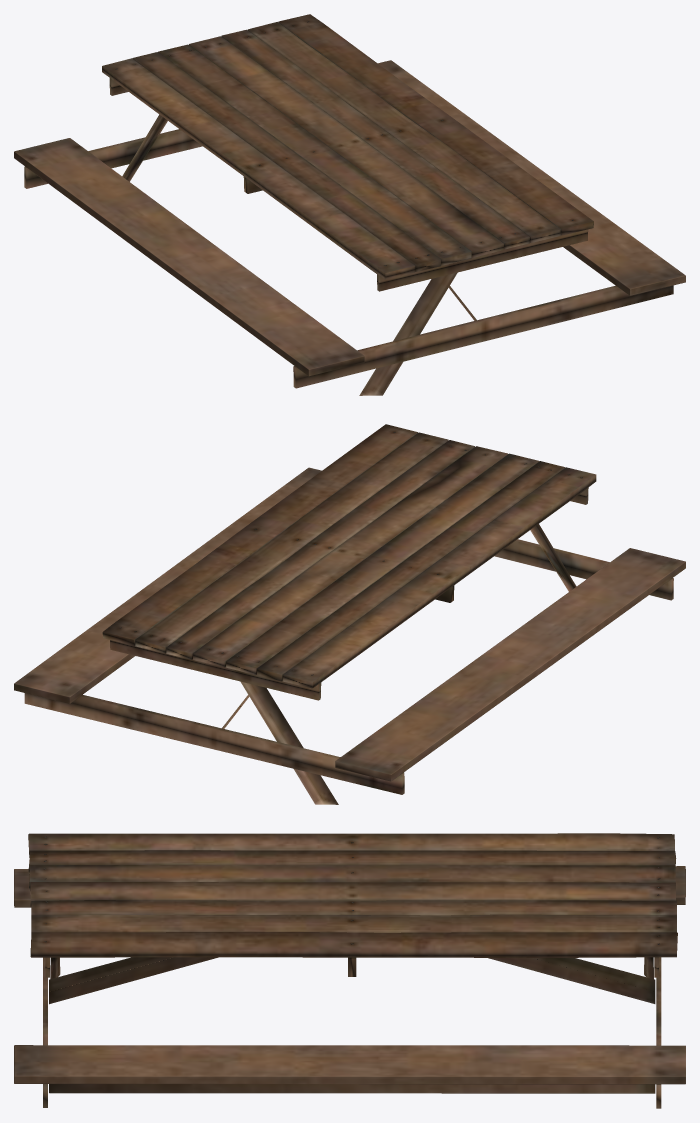
File: wooden_picnic_table.glb
3 renders of one model, top to bottom at view 1: azimuth 30°, elevation 25°; view 2: azimuth 150°, elevation 25°; view 3: azimuth 270°, elevation 25°, orthographic. The views are drawn at different scales.
Parts seen in each view (by area): view 1: wooden_picnic_table; view 2: wooden_picnic_table; view 3: wooden_picnic_table.
Part boxes in pixels (x1,y1,x2,y2): wooden_picnic_table: (14, 14, 685, 395); wooden_picnic_table: (14, 424, 685, 804); wooden_picnic_table: (14, 833, 685, 1108).
Size of the model in its own units: 2.24 by 0.7433 by 3.02.
2 materials, 2 textured.
